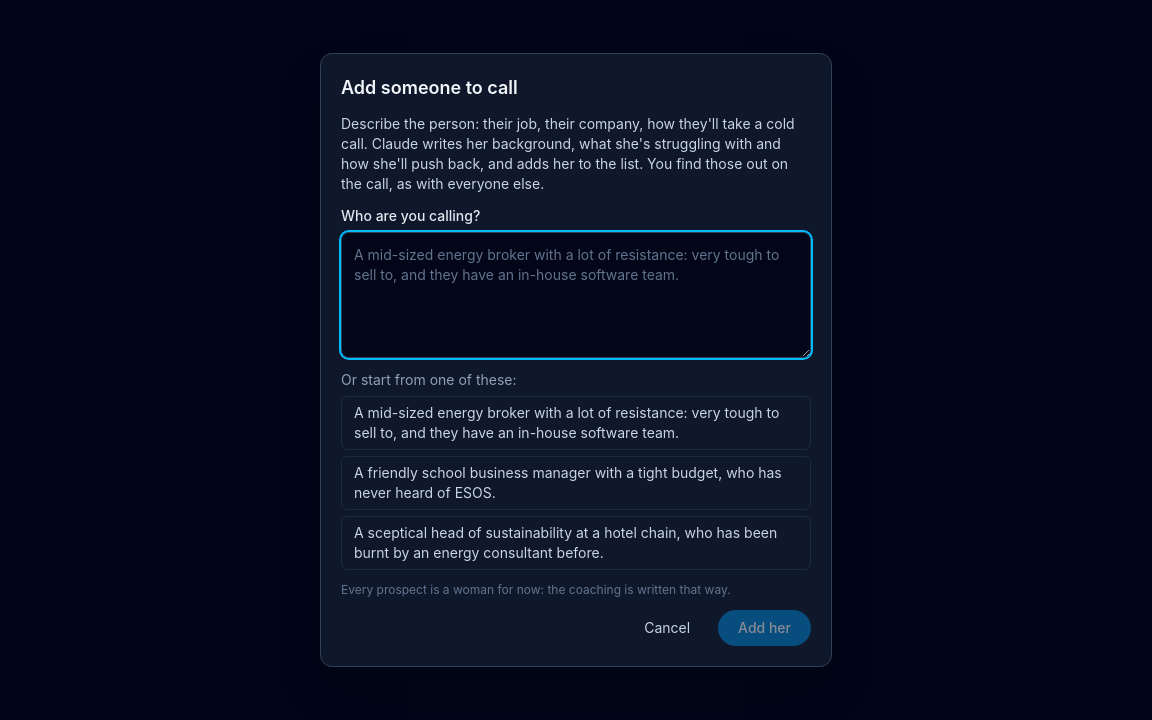
Scenario: AddProspectDialog › sends the description, says it is writing her, and hands her back
Expected: the button "Add her" is disabled, [718, 610, 811, 646]
Click the button named "A mid-sized energy broker with a lot of resistance: very tough to sell to, and they have an in-house software team." at {"x": 576, "y": 423}, box [341, 396, 811, 450]
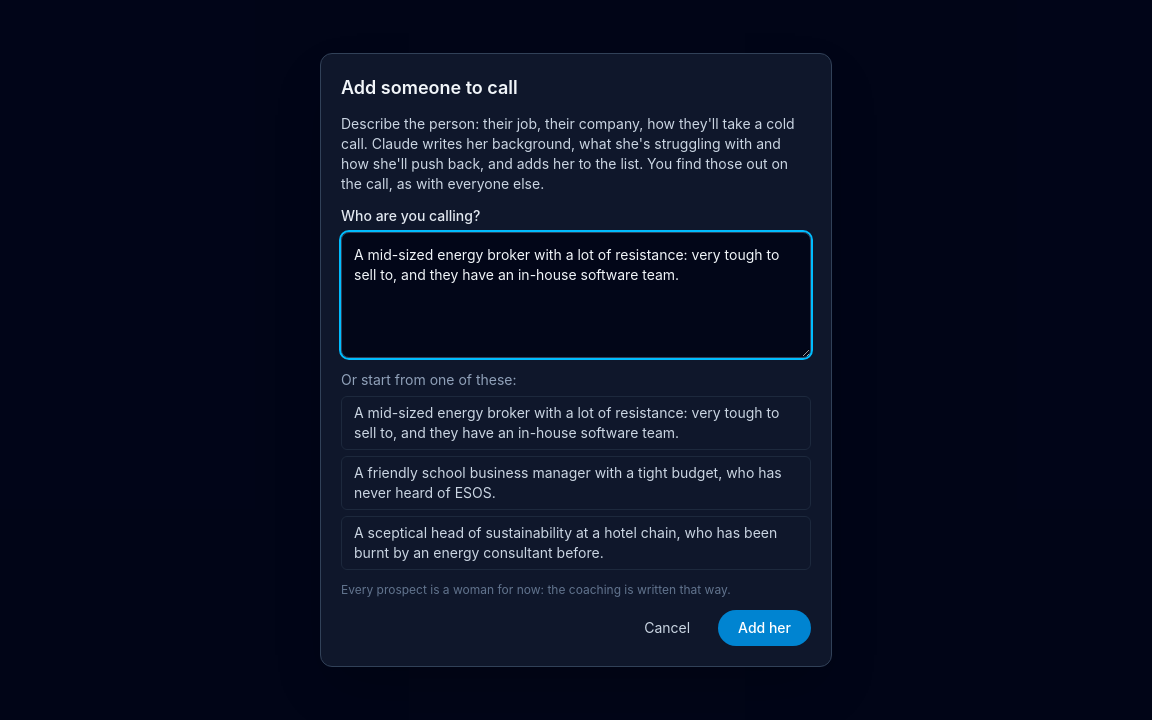
Expected: the text box labelled "Who are you calling?" holds "A mid-sized energy broker with a lot of resistance: very tough to sell to, and they have an in-house software team.", [341, 232, 811, 358]
Click the button "Add her" at {"x": 765, "y": 628}, box [718, 610, 811, 646]
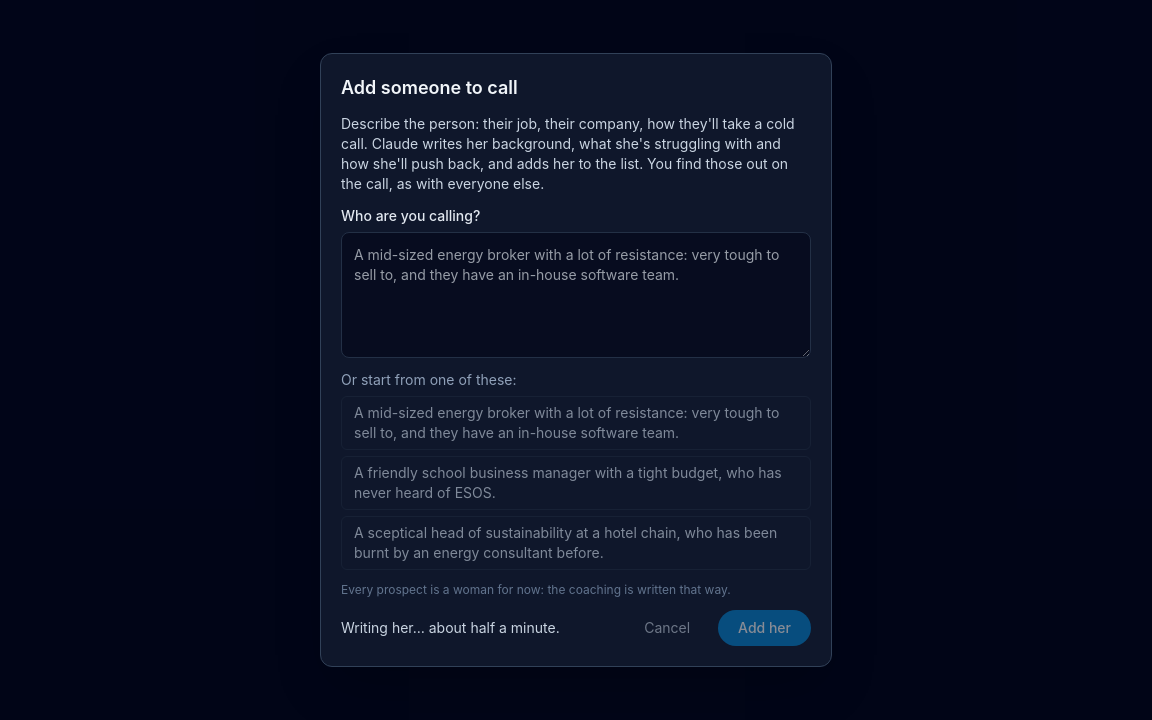
Expected: the message shows "Writing her…", [341, 619, 560, 636]
Expected: the text box labelled "Who are you calling?" is disabled, [341, 232, 811, 358]
